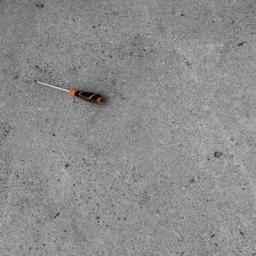FOD: (34, 78, 109, 109)
